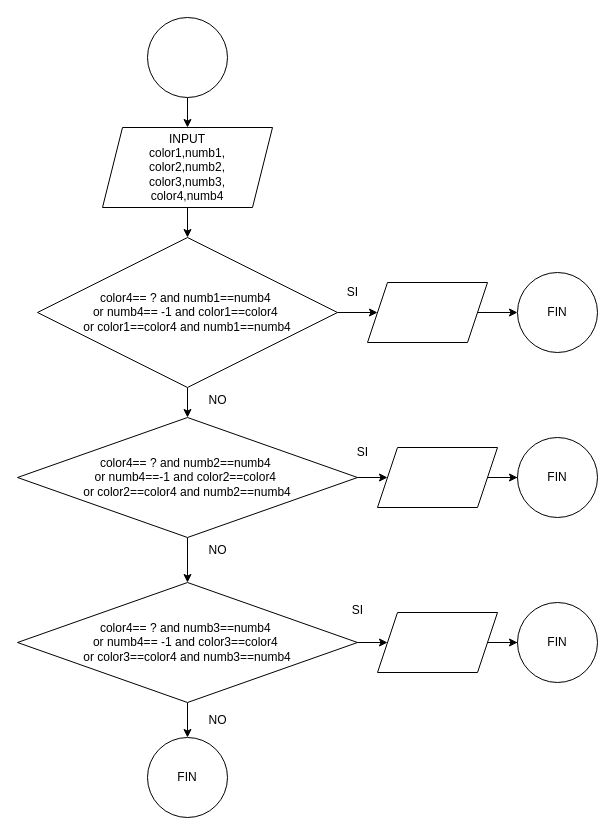
Some shapes in this 615 by 835 pixel diagram are drawn without their labels. Each missing label, with the centre of its shape:
INICIO: pixel 187 57
OUTPUT 1: pixel 427 312
OUTPUT 2: pixel 437 477
OUTPUT 3: pixel 437 642
